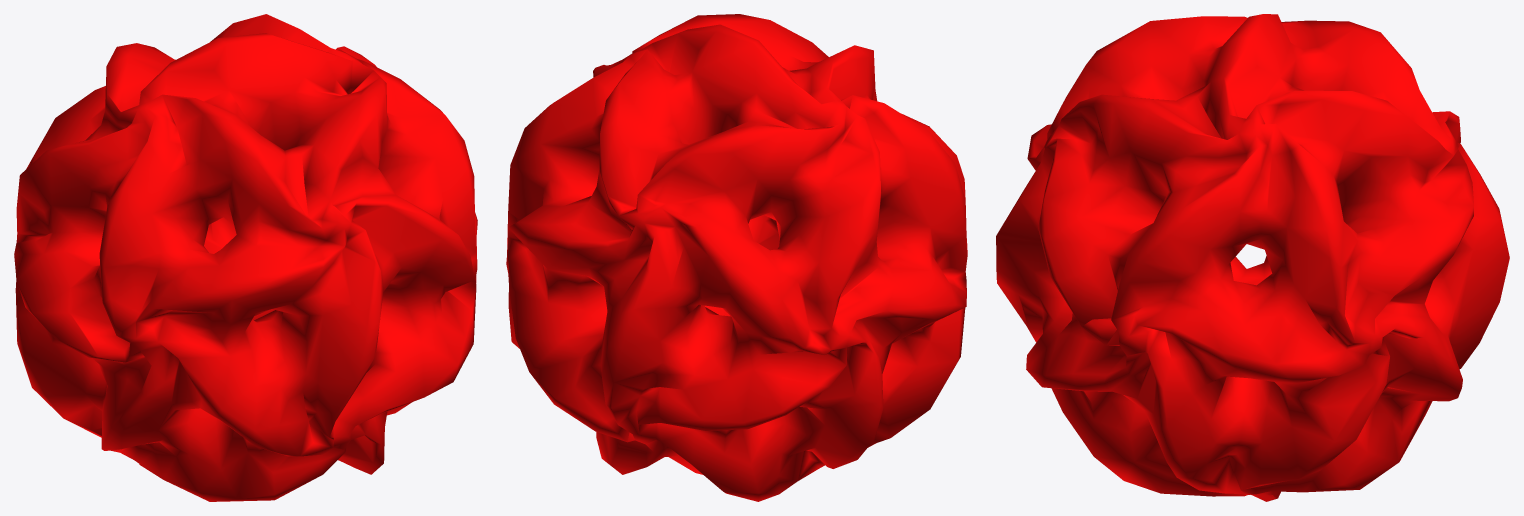
The model's file is Character.fbx.
3 views of the same model, side by side, from view 1: azimuth 30°, elevation 25°; view 2: azimuth 150°, elevation 25°; view 3: azimuth 270°, elevation 25° (orthographic). The views are drawn at different scales.
Visible parts, largest first — view 1: Spiral Sphere 2; view 2: Spiral Sphere 2; view 3: Spiral Sphere 2.
Part boxes in pixels (box(x1,y1,x2,y2)): Spiral Sphere 2: box(14, 14, 477, 501); Spiral Sphere 2: box(506, 14, 967, 501); Spiral Sphere 2: box(996, 14, 1509, 501).
Bounding box in the file's own units: 146 × 146 × 146.
